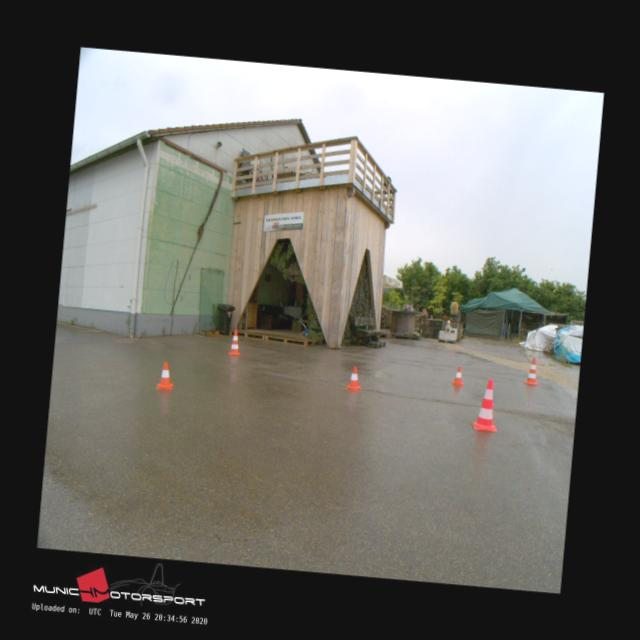large_orange_cone: (472, 378, 501, 431), (524, 356, 539, 384), (228, 328, 242, 355)
orange_cone: (156, 360, 174, 389), (343, 364, 362, 390), (452, 366, 464, 384)
